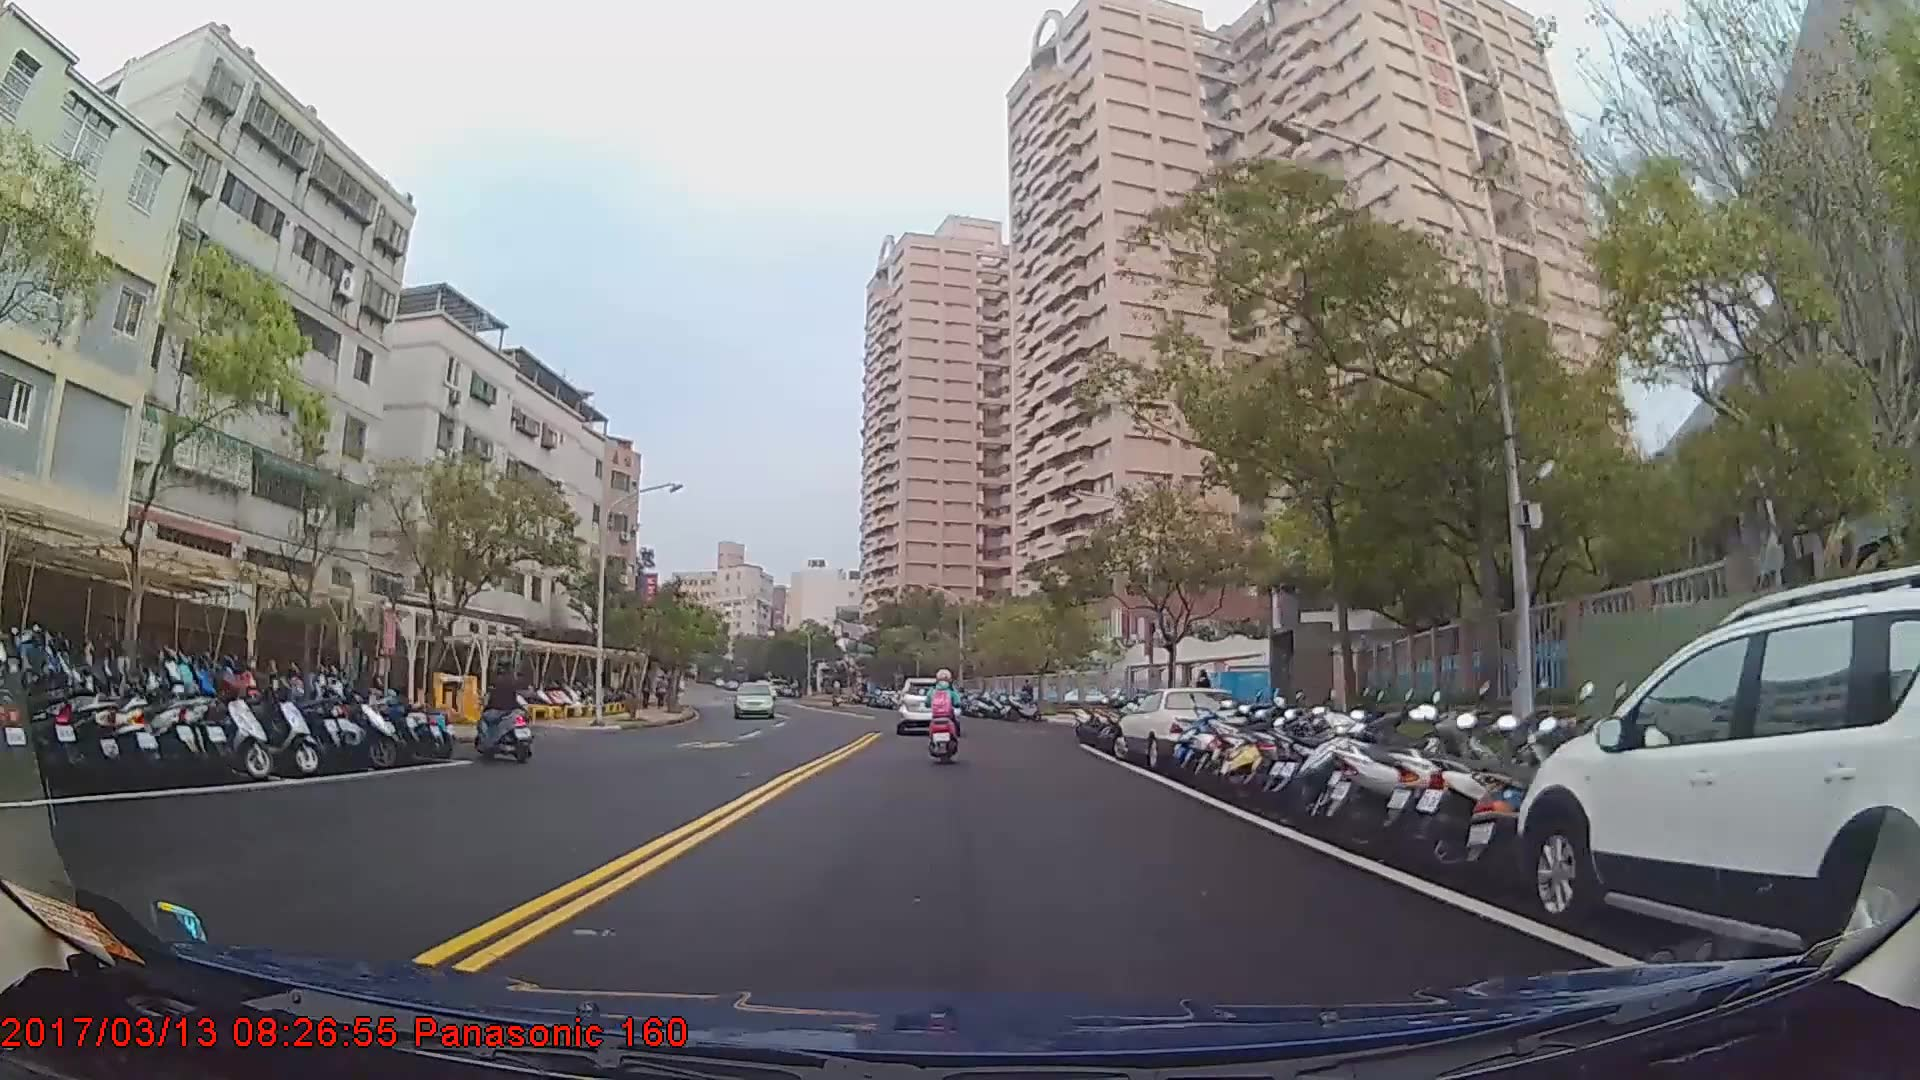pedestrian: (1194, 671, 1215, 724)
rider: (471, 656, 533, 768), (923, 669, 963, 769)
vehicle: (1520, 561, 1920, 985), (1112, 687, 1248, 772), (891, 673, 958, 731), (730, 680, 776, 719)
